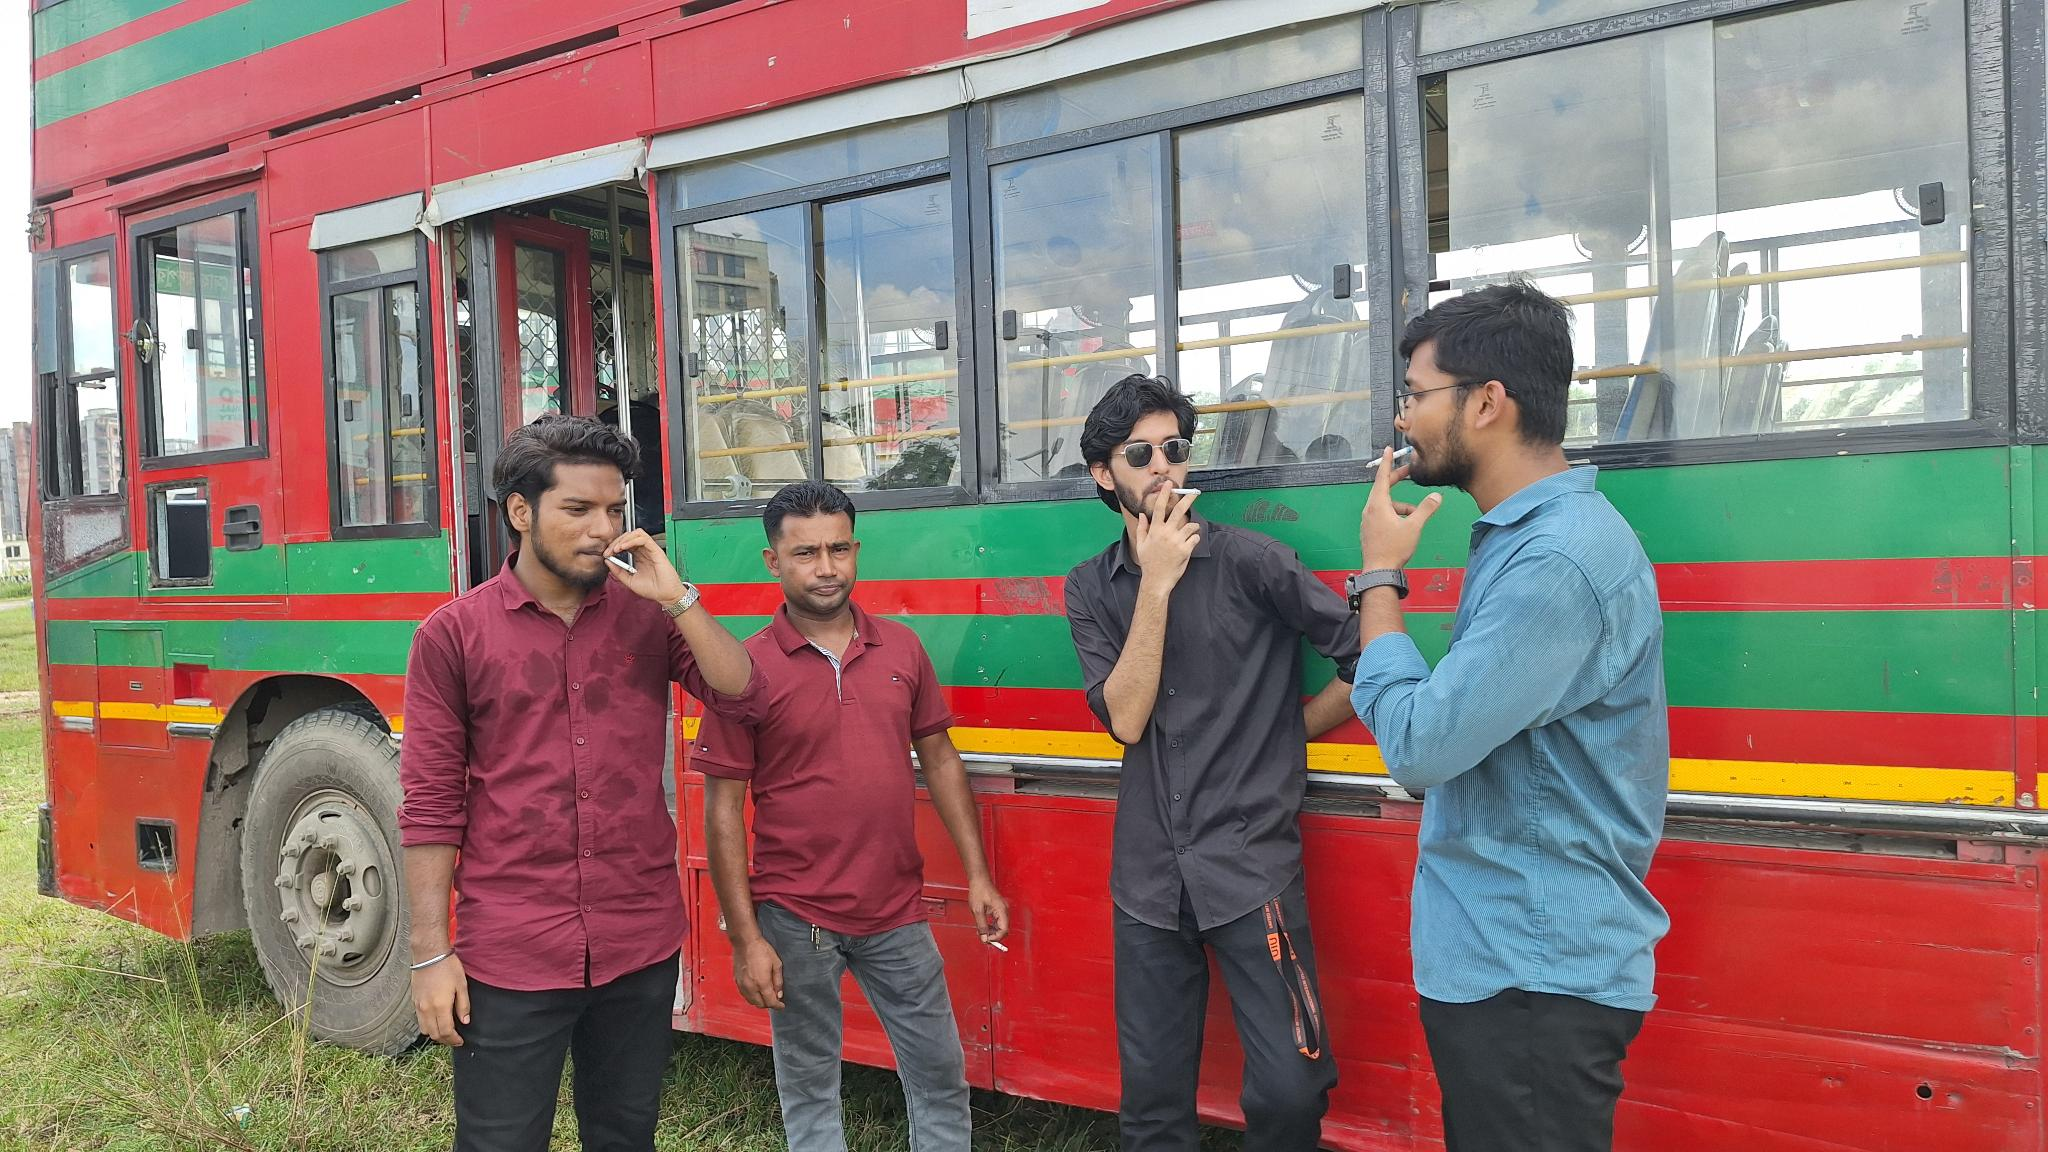cigarette: (1362, 442, 1416, 470), (602, 551, 639, 575), (986, 938, 1010, 954), (1167, 487, 1203, 497)
smoker: (1350, 280, 1674, 1152), (397, 414, 771, 1152), (1063, 373, 1363, 1152), (686, 480, 1011, 1152)
